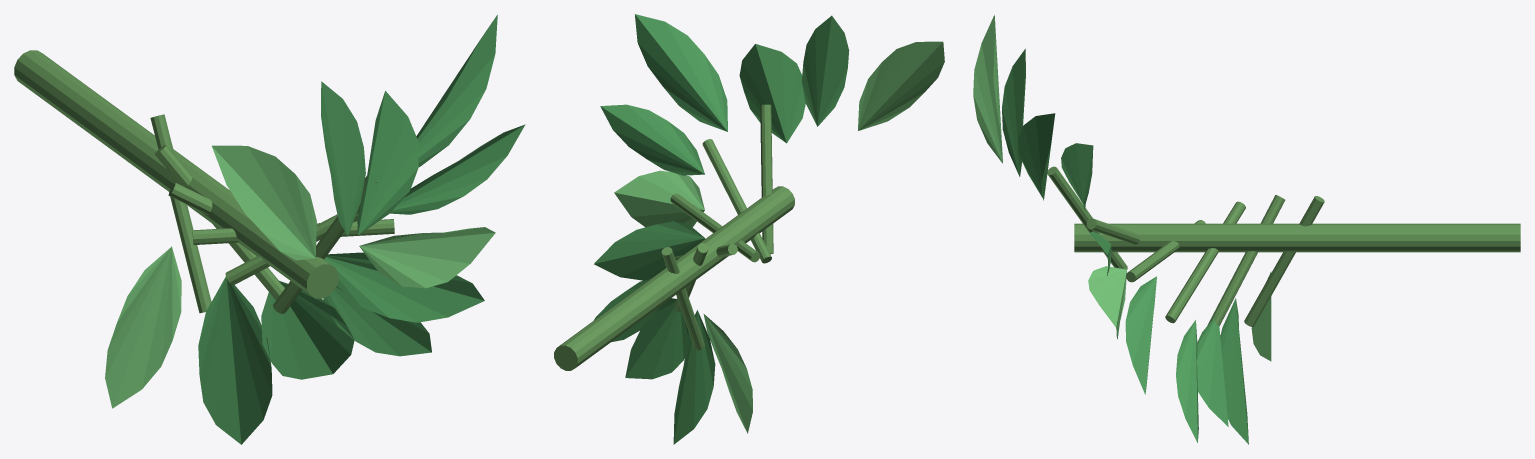
File: potato_haulm_c.glb
3 renders of one model, left to right at view 1: azimuth 30°, elevation 25°; view 2: azimuth 150°, elevation 25°; view 3: azimuth 270°, elevation 25°, orthographic. The views are drawn at different scales.
Parts seen in each view (by area): view 1: main_stem, leaf_1, leaf_0, leaf_10, leaf_2, leaf_4, leaf_5, leaf_8, leaf_7, leaf_9, leaf_6, leaf_3 (+6 smaller); view 2: main_stem, leaf_7, leaf_10, leaf_8, leaf_6, leaf_4, leaf_9, leaf_5, leaf_2, leaf_1, leaf_0, branch_5 (+5 smaller); view 3: main_stem, leaf_10, leaf_1, leaf_2, leaf_4, leaf_8, leaf_9, leaf_3, leaf_5, leaf_7, branch_0, branch_1 (+5 smaller).
Part boxes in pixels (<box>): main_stem: <box>14,50,338,298</box>; leaf_1: <box>198,276,272,444</box>; leaf_0: <box>105,246,181,408</box>; leaf_10: <box>212,145,316,260</box>; leaf_2: <box>261,281,354,379</box>; leaf_4: <box>324,252,484,322</box>; leaf_5: <box>359,227,495,288</box>; leaf_8: <box>357,91,418,235</box>; leaf_7: <box>416,14,497,166</box>; leaf_9: <box>321,81,365,236</box>; leaf_6: <box>390,124,525,214</box>; leaf_3: <box>323,286,431,356</box>; main_stem: <box>554,186,794,370</box>; leaf_7: <box>634,14,727,131</box>; leaf_10: <box>858,41,944,130</box>; leaf_8: <box>739,44,805,143</box>; leaf_6: <box>600,104,704,175</box>; leaf_4: <box>594,221,705,280</box>; leaf_9: <box>801,15,849,126</box>; leaf_5: <box>614,170,704,227</box>; leaf_2: <box>625,298,688,379</box>; leaf_1: <box>673,310,715,444</box>; leaf_0: <box>703,314,752,433</box>; branch_5: <box>760,104,773,254</box>; main_stem: <box>1074,223,1520,252</box>; leaf_10: <box>973,15,1002,163</box>; leaf_1: <box>1220,298,1248,444</box>; leaf_2: <box>1197,316,1228,426</box>; leaf_4: <box>1125,276,1156,394</box>; leaf_8: <box>1018,113,1055,200</box>; leaf_9: <box>1002,48,1025,176</box>; leaf_3: <box>1176,320,1198,442</box>; leaf_5: <box>1088,266,1126,338</box>; leaf_7: <box>1061,143,1093,211</box>; branch_0: <box>1244,196,1324,326</box>; branch_1: <box>1207,195,1285,326</box>.
Size of the model in its own units: 0.2863 by 0.3437 by 0.4588.
